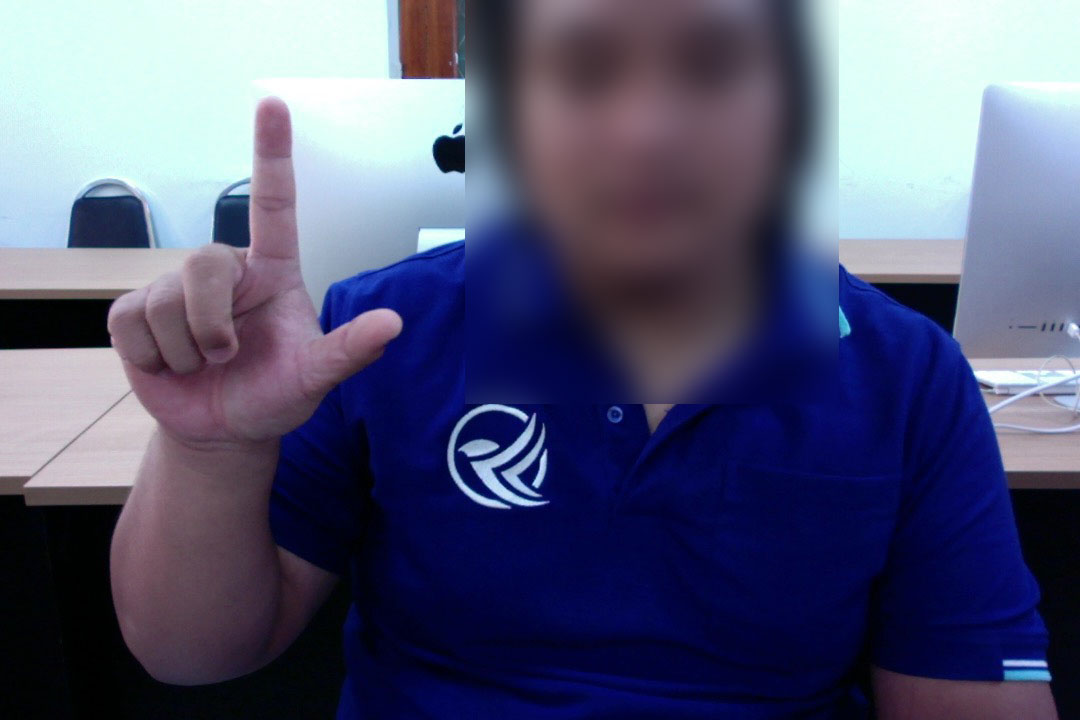lor: (76, 82, 418, 471)
